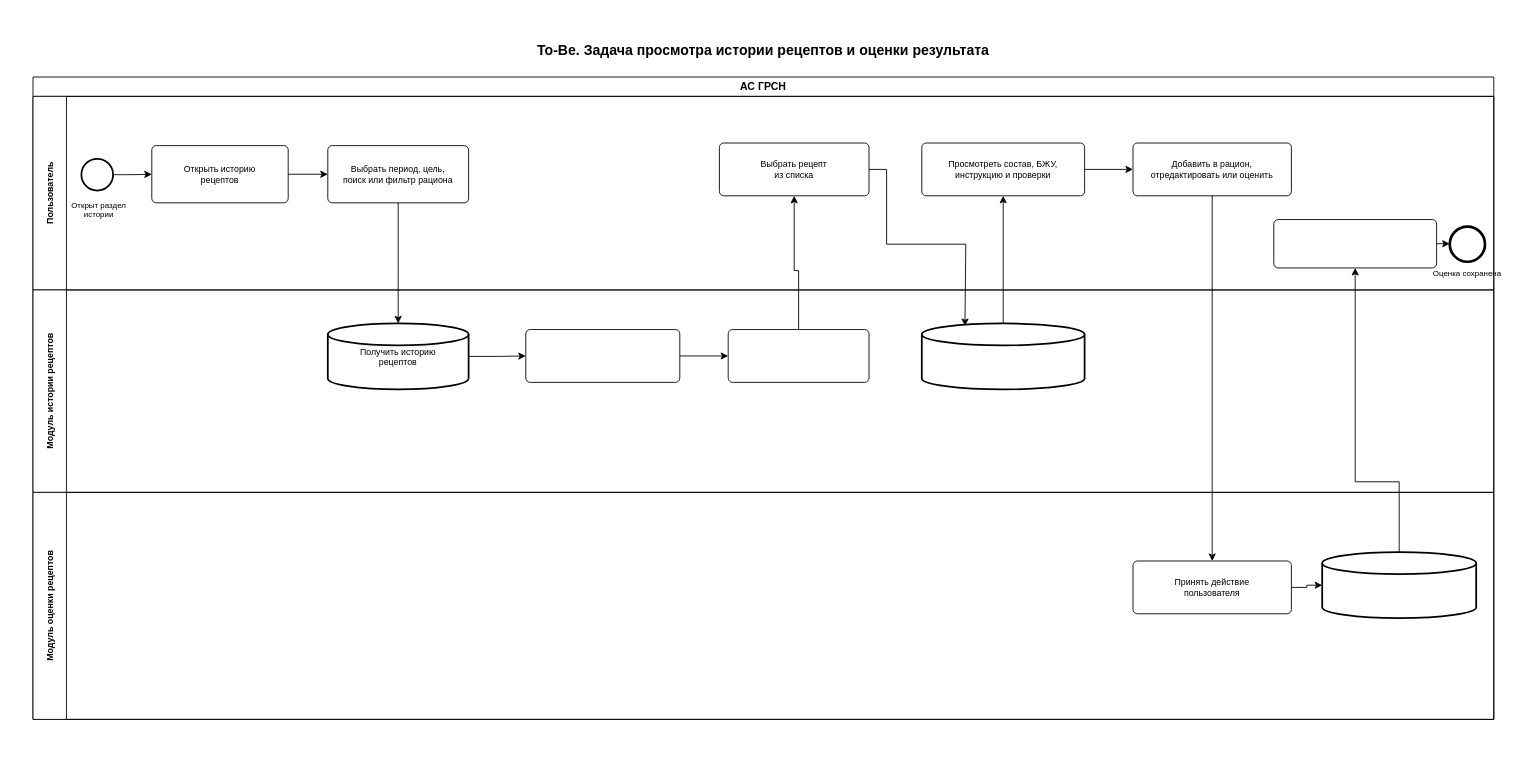
This 1526x778 diagram has some shape labels left out. Each missing label, with the centre of its shape:
"Показать архив рецептов" goes at [798,355].
"Получить карточку выбранного рецепта" goes at [1002,356].
"Применить период, поиск, цель и фильтр рациона" goes at [602,355].
"Сохранить статус рациона, изменения или оценку" goes at [1399,585].
"Увидеть обновлённый рецепт" goes at [1355,243].
